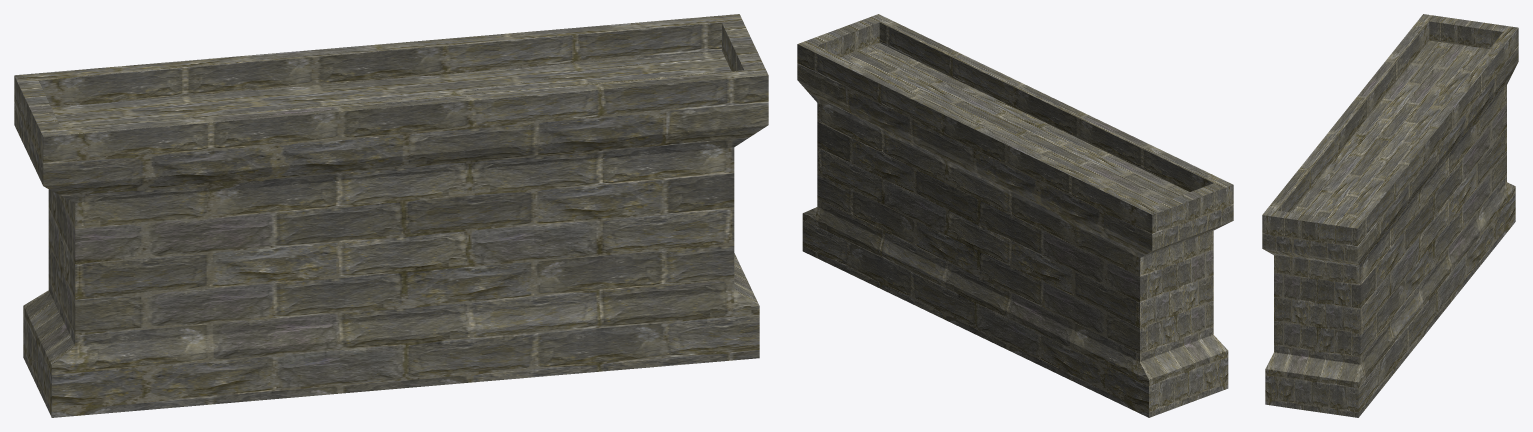
Rendered from wall_single.glb.
The picture shows the model from 3 angles, left to right: view 1: azimuth 30°, elevation 25°; view 2: azimuth 150°, elevation 25°; view 3: azimuth 270°, elevation 25°; orthographic projection. The views are drawn at different scales.
Visible parts, largest first — view 1: wall_single.002; view 2: wall_single.002; view 3: wall_single.002.
Boxes of the visible parts, <box> form: wall_single.002: <box>14,14,768,417</box>; wall_single.002: <box>797,14,1233,417</box>; wall_single.002: <box>1262,14,1518,417</box>.
Size of the model in its own units: 27.85 by 11.61 by 14.07.
Materials: 1 (1 with a texture image).
